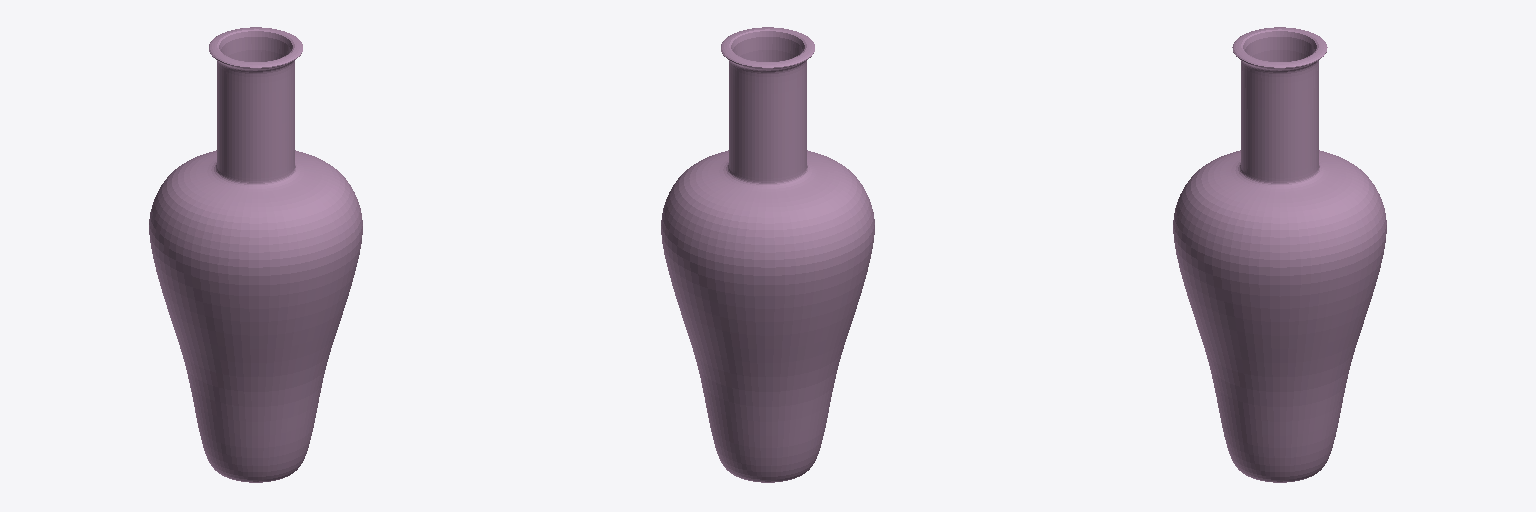
The model's file is vase01.obj.
3 renders of one model, left to right at view 1: azimuth 30°, elevation 25°; view 2: azimuth 150°, elevation 25°; view 3: azimuth 270°, elevation 25°, orthographic.
Visible parts, largest first — view 1: Circle; view 2: Circle; view 3: Circle.
Boxes of the visible parts, box(x1,y1,x2,y2) form: Circle: box(149, 27, 362, 482); Circle: box(661, 27, 874, 482); Circle: box(1173, 27, 1386, 482).
Bounding box in the file's own units: 1.01 × 2.2 × 1.01.